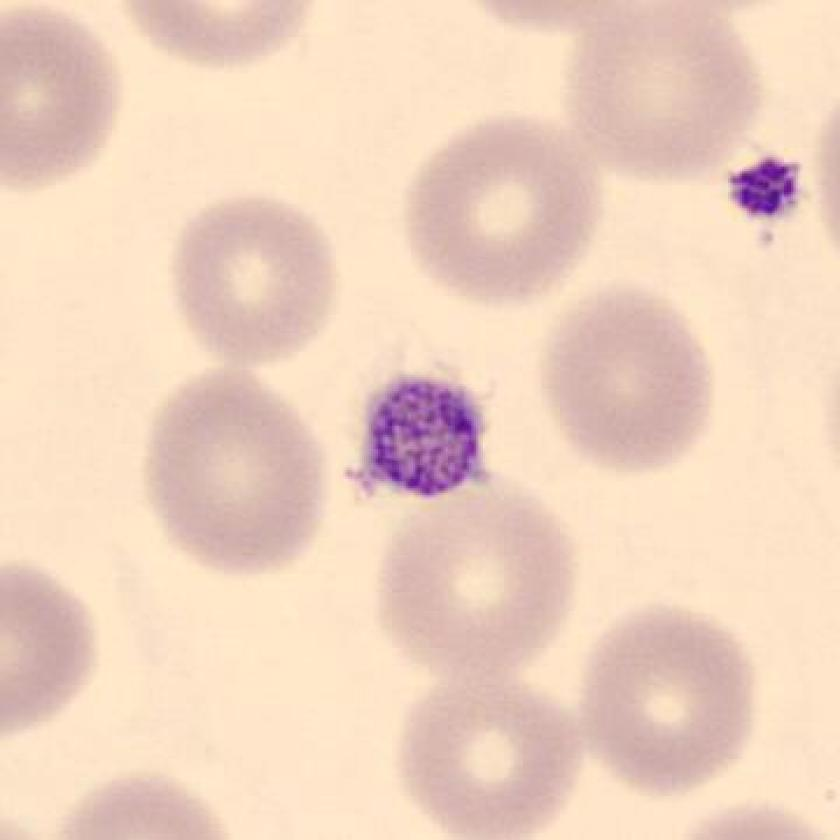platelets: (346, 362, 496, 519), (720, 149, 818, 239)
